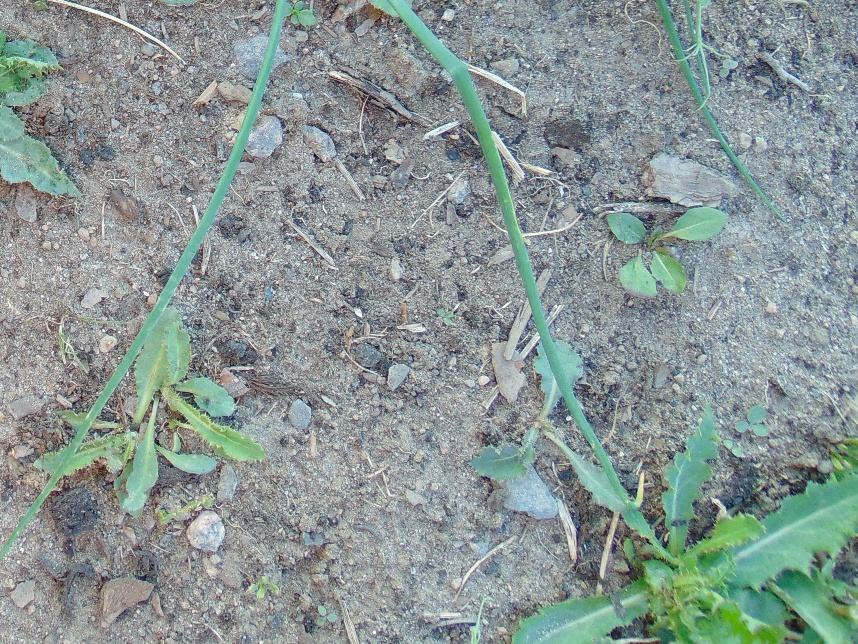weed: (503, 403, 858, 644), (36, 297, 266, 505), (455, 334, 642, 516), (1, 31, 90, 205), (604, 202, 733, 299), (229, 1, 408, 22)
